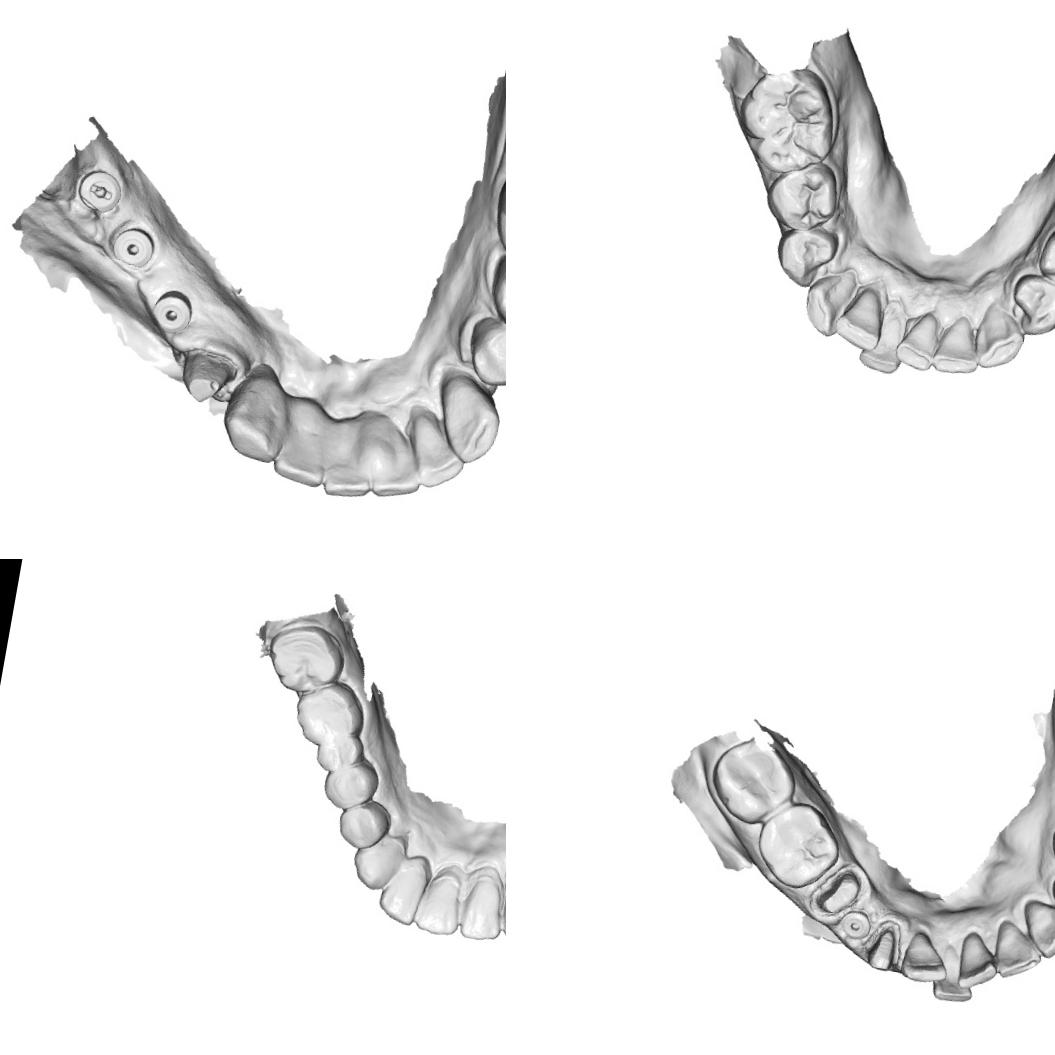canine: (216, 368, 294, 465), (438, 377, 506, 468), (966, 307, 1030, 376), (798, 267, 856, 342), (347, 827, 408, 894), (1015, 898, 1055, 963)
crown: (171, 345, 237, 408), (810, 862, 868, 924), (864, 920, 902, 976)
implant: (108, 222, 158, 269), (148, 287, 195, 335), (832, 905, 874, 946)
implant_minus: (70, 167, 130, 219)
incisor: (358, 427, 432, 512), (402, 416, 471, 496), (374, 849, 434, 928), (412, 860, 468, 938), (988, 917, 1047, 984), (855, 308, 909, 380), (456, 869, 506, 943), (268, 433, 330, 492), (317, 446, 379, 504), (898, 928, 955, 988), (928, 318, 984, 379), (953, 928, 1003, 996), (929, 941, 980, 1006), (893, 312, 942, 375), (832, 290, 883, 348)
molar: (730, 60, 843, 182), (702, 731, 805, 832), (749, 793, 848, 896), (261, 617, 349, 700), (289, 674, 370, 753), (312, 729, 365, 776)
premolar: (762, 154, 846, 238), (772, 220, 842, 292), (1002, 270, 1055, 344), (319, 752, 382, 814), (333, 794, 394, 853), (465, 319, 506, 391), (480, 255, 506, 341), (1031, 220, 1055, 299)
